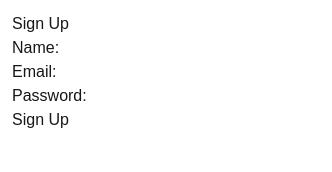
Scenario: SignupForm › shows error message on failed signup
Type "Jane Doe" into the field labelled "Name:" at (163, 48), box [59,36,266,60]
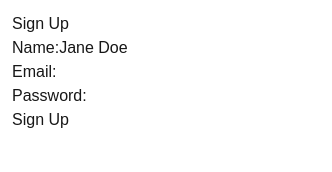
Type "jane@example.com" into the field labelled "Email:" at (160, 72), box [56,60,264,84]
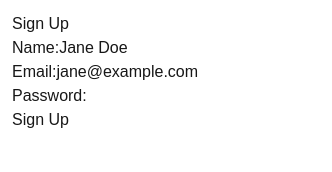
Type "pass123" into the password field labelled "Password:" at (190, 96), box [87,84,294,108]
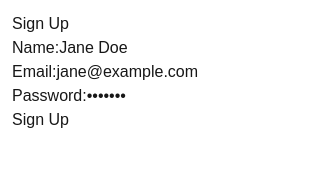
Click the button "Sign Up" at (40, 120), box [12,108,69,132]
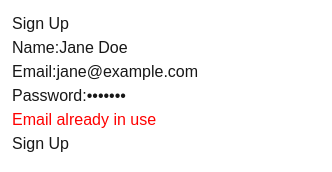
Expected: the text "Email already in use" is shown, [12,111,156,128]
